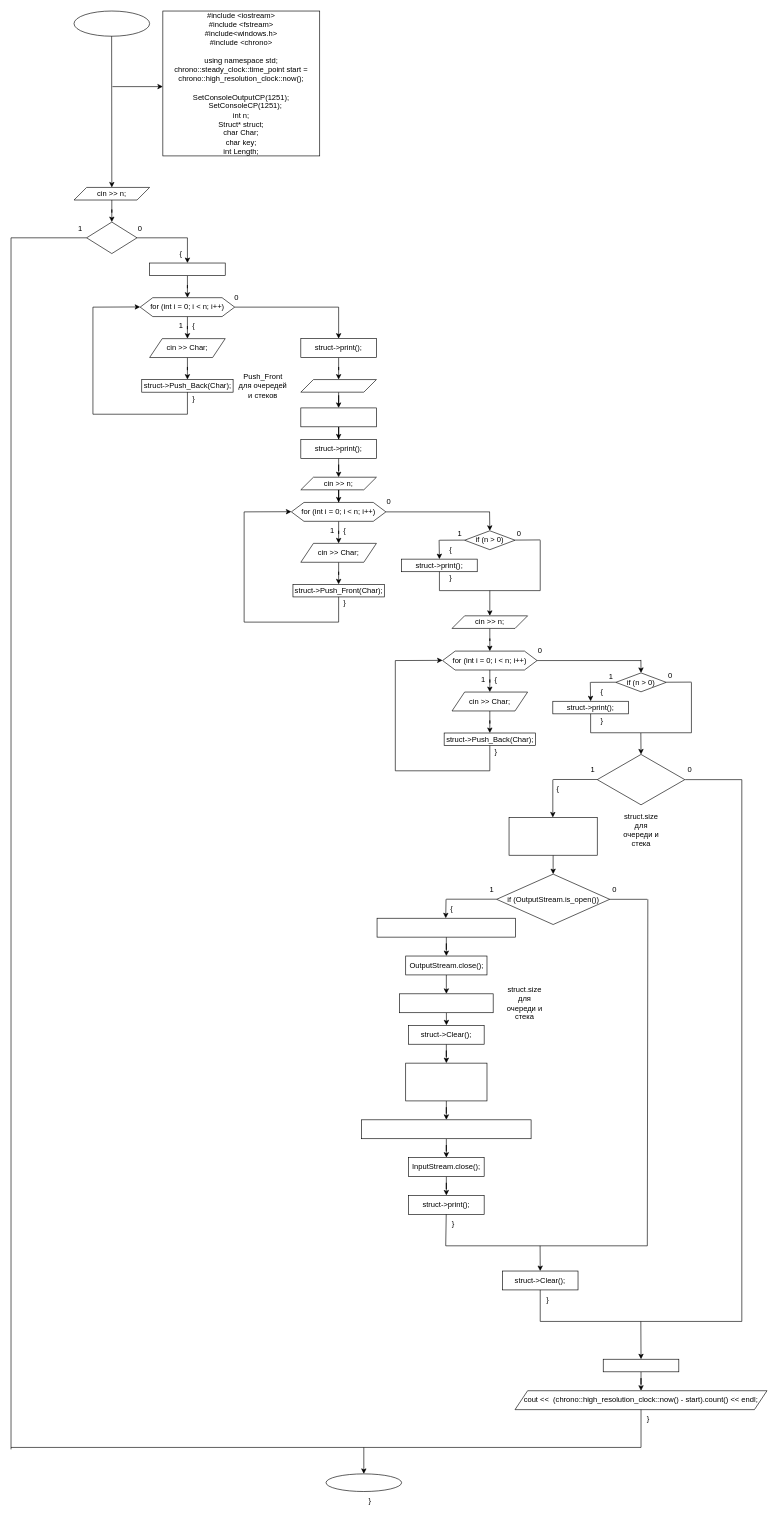
Image size: 778x1521. Some labels were removed from this diagram. Here are the shapes that lost their labels. From the top down, the box of each, then its label:
(73, 10, 150, 36): начало
(86, 221, 137, 254): if (n < 1)
(149, 262, 225, 276): struct = new Struct;
(300, 379, 376, 392): cin >> key;
(300, 407, 376, 427): struct->remove(key);
(597, 754, 685, 805): if (struct->GetSize() > 0)
(508, 817, 597, 855): ofstream OutputStream("F1.bin", ios::binary);
(376, 918, 516, 937): struct->Write_Into_File(&OutputStream);
(399, 993, 493, 1013): Length = struct->GetSize();
(405, 1062, 487, 1101): ifstream InputStream("F1.bin", ios::binary);
(361, 1119, 531, 1139): struct->Read_From_File(&InputStream, Length);
(603, 1359, 679, 1372): delete struct;
(325, 1473, 402, 1492): return 0;
